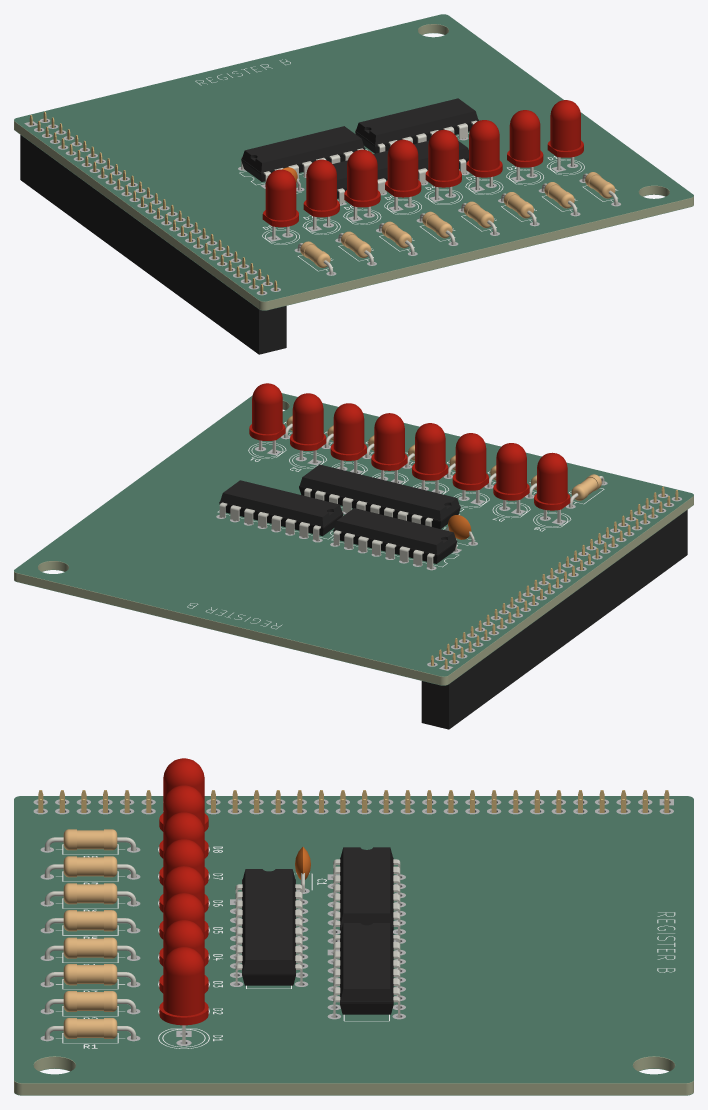
Rendered from board-233df519b34f.glb.
3 renders of one model, top to bottom at view 1: azimuth 30°, elevation 25°; view 2: azimuth 150°, elevation 25°; view 3: azimuth 270°, elevation 25°, orthographic. The views are drawn at different scales.
Visible parts, largest first — view 1: =>[0:1:1:17], =>[0:1:1:7] (×8), =>[0:1:1:5], =>[0:1:1:9] (×2), =>[0:1:1:19], =>[0:1:1:3] (×8), =>[0:1:1:14], =>[0:1:1:15], =>[0:1:1:11], =>[0:1:1:18]; view 2: =>[0:1:1:17], =>[0:1:1:7] (×8), =>[0:1:1:5], =>[0:1:1:9] (×2), =>[0:1:1:19], =>[0:1:1:11], =>[0:1:1:14], =>[0:1:1:15], =>[0:1:1:18], =>[0:1:1:3]; view 3: =>[0:1:1:17], =>[0:1:1:7] (×8), =>[0:1:1:3] (×8), =>[0:1:1:9] (×2), =>[0:1:1:19], =>[0:1:1:11], =>[0:1:1:14], =>[0:1:1:5], =>[0:1:1:15], =>[0:1:1:18].
Boxes of the visible parts, x1=… form: =>[0:1:1:17]: x1=14, y1=14, x2=693, y2=301; =>[0:1:1:7] (×8): x1=262, y1=100, x2=583, y2=239; =>[0:1:1:5]: x1=20, y1=111, x2=286, y2=354; =>[0:1:1:9] (×2): x1=241, y1=98, x2=478, y2=186; =>[0:1:1:19]: x1=14, y1=24, x2=693, y2=310; =>[0:1:1:3] (×8): x1=297, y1=172, x2=617, y2=274; =>[0:1:1:14]: x1=24, y1=118, x2=620, y2=295; =>[0:1:1:15]: x1=195, y1=59, x2=617, y2=271; =>[0:1:1:11]: x1=332, y1=140, x2=468, y2=204; =>[0:1:1:18]: x1=14, y1=33, x2=693, y2=310; =>[0:1:1:17]: x1=14, y1=393, x2=693, y2=676; =>[0:1:1:7] (×8): x1=249, y1=383, x2=570, y2=522; =>[0:1:1:5]: x1=421, y1=486, x2=687, y2=729; =>[0:1:1:9] (×2): x1=219, y1=480, x2=457, y2=569; =>[0:1:1:19]: x1=14, y1=400, x2=693, y2=685; =>[0:1:1:11]: x1=299, y1=464, x2=460, y2=528; =>[0:1:1:14]: x1=216, y1=435, x2=681, y2=670; =>[0:1:1:15]: x1=187, y1=422, x2=604, y2=629; =>[0:1:1:18]: x1=14, y1=409, x2=693, y2=685; =>[0:1:1:3]: x1=569, y1=474, x2=604, y2=507; =>[0:1:1:17]: x1=14, y1=796, x2=693, y2=1083; =>[0:1:1:7] (×8): x1=159, y1=758, x2=208, y2=1044; =>[0:1:1:3] (×8): x1=44, y1=829, x2=136, y2=1039; =>[0:1:1:9] (×2): x1=333, y1=847, x2=400, y2=1017; =>[0:1:1:19]: x1=14, y1=799, x2=693, y2=1095; =>[0:1:1:11]: x1=235, y1=869, x2=302, y2=985; =>[0:1:1:14]: x1=33, y1=799, x2=673, y2=1045; =>[0:1:1:5]: x1=38, y1=790, x2=669, y2=812; =>[0:1:1:15]: x1=56, y1=844, x2=675, y2=1048; =>[0:1:1:18]: x1=14, y1=1068, x2=693, y2=1095.
Size of the model in its own units: 0.08 by 0.0217 by 0.08.
